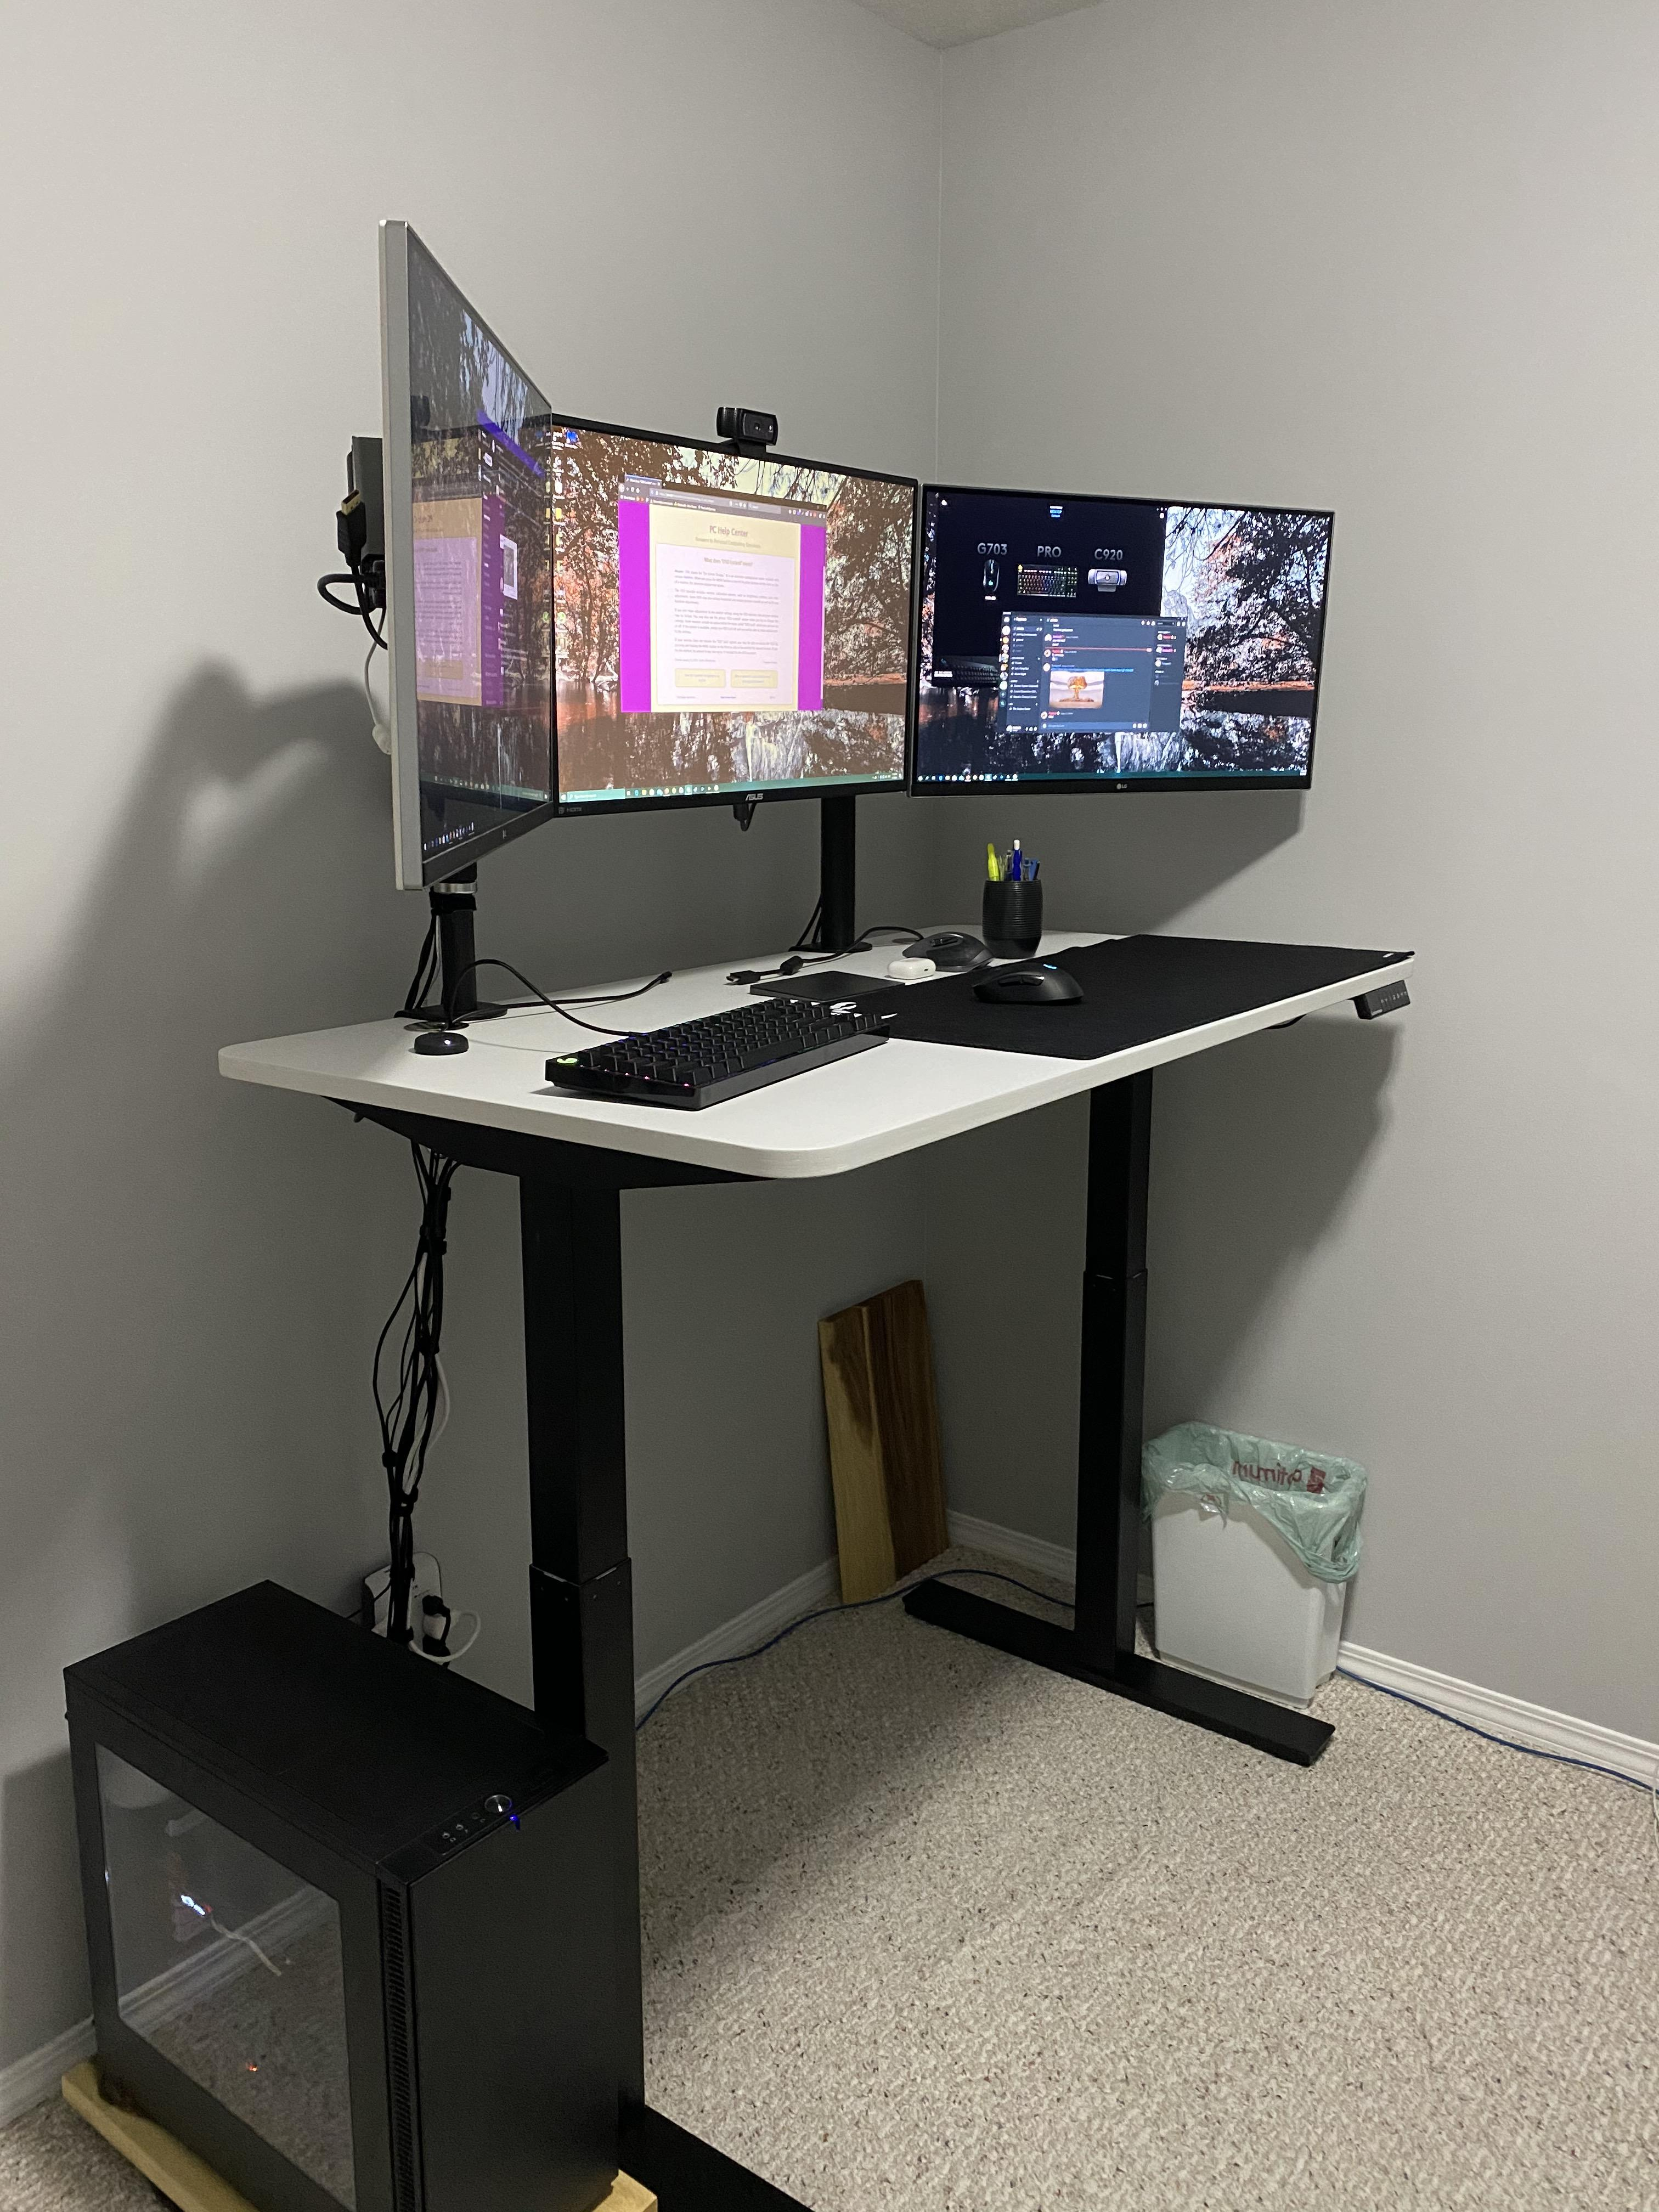Airpods (Apple): (878, 949, 938, 984)
Desk (Standing): (197, 918, 1438, 2210)
Desktop (Windows): (54, 1564, 662, 2212)
Drawing Pad: (748, 963, 911, 1008)
External Webcam: (699, 402, 795, 456)
Keyboard (Generic): (538, 989, 890, 1094)
Monitor (Landscape): (540, 409, 922, 803), (903, 472, 1333, 799), (364, 207, 556, 887)
Mouse (Ergonomic): (904, 932, 1000, 975)
Mouse (Gaming): (965, 948, 1093, 1028)
Mousepad (Gaming): (864, 925, 1417, 1064)
Power Strip: (329, 1550, 484, 1709)
Trash Can: (1129, 1400, 1387, 1714)
